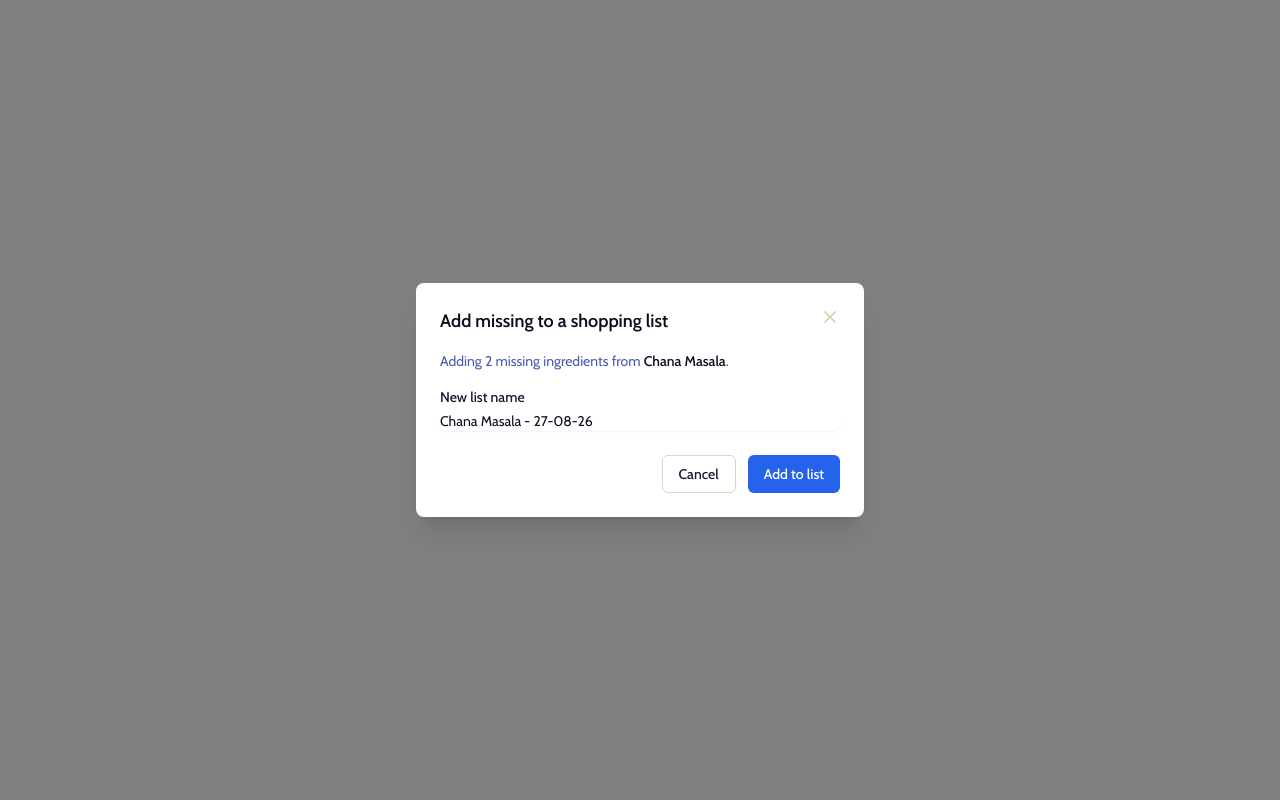
Test case: ShoppingListPushModal › shows an error when the push fails
expect the field labelled "New list name" is shown: met, box top-left (440, 411), bottom-right (840, 431)
Click the button "Add to list" at point(794, 474), box top-left (748, 455), bottom-right (840, 493)
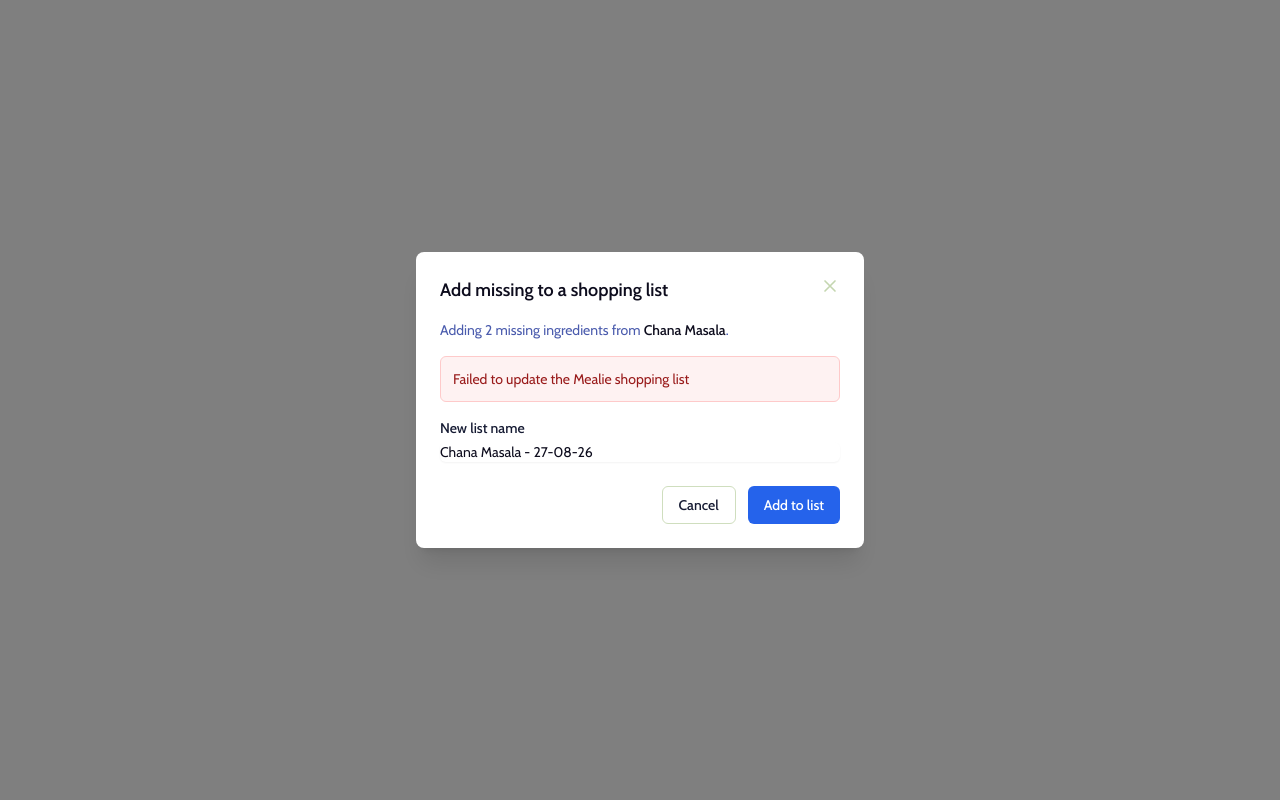
expect the text "Failed to update the Mealie shopping list" is shown: met, box top-left (453, 370), bottom-right (689, 388)
